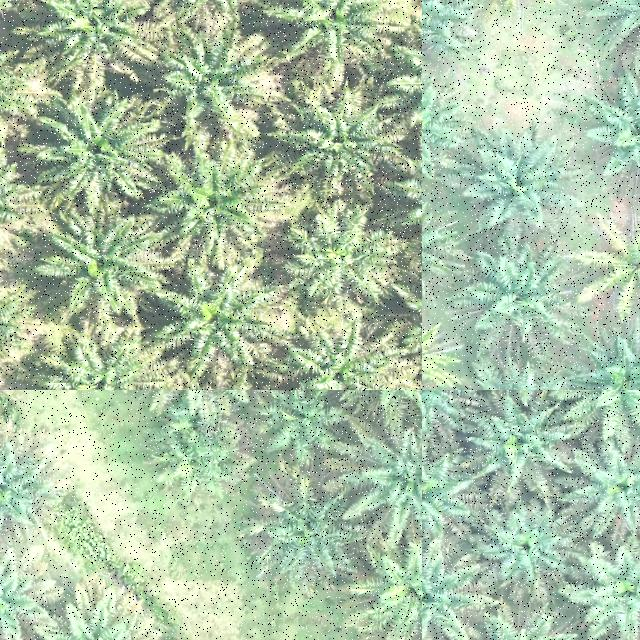Ganoderma: (597, 234, 640, 305), (422, 327, 441, 390)
